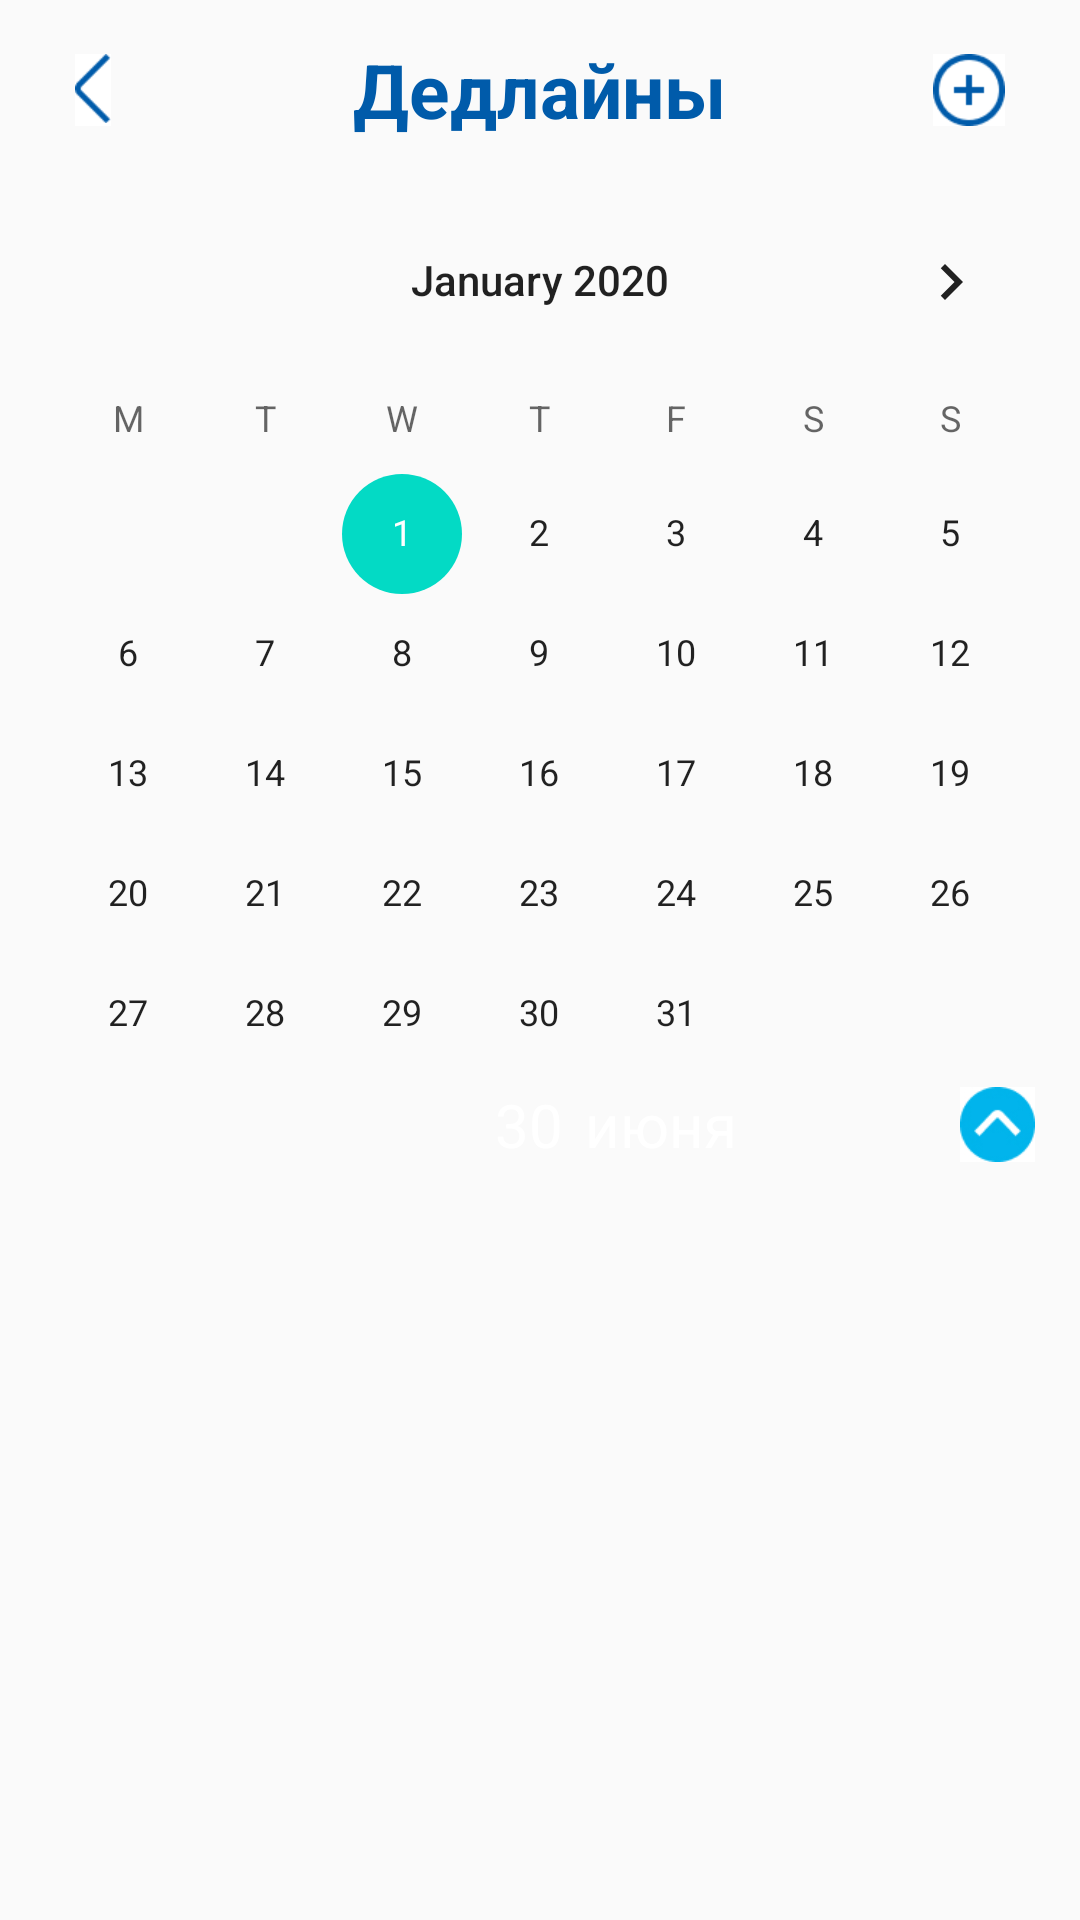

Locate icon controls on the screen. Image size 1080 x 1920, boxes as [x1,y1,x2,y2].
plus: [933,54,1005,126]
roll up: [960,1087,1035,1162]
